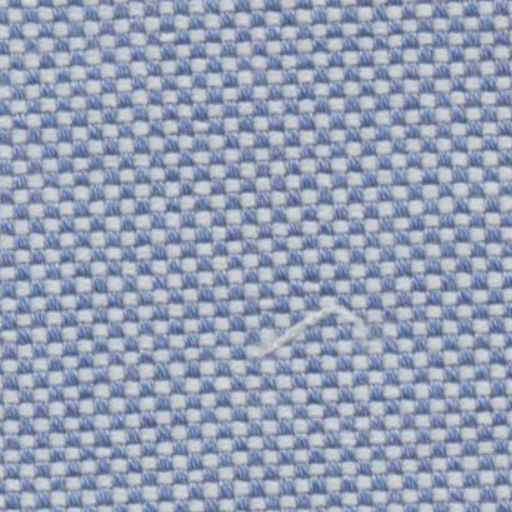DuanSha: (254, 298, 378, 363)
